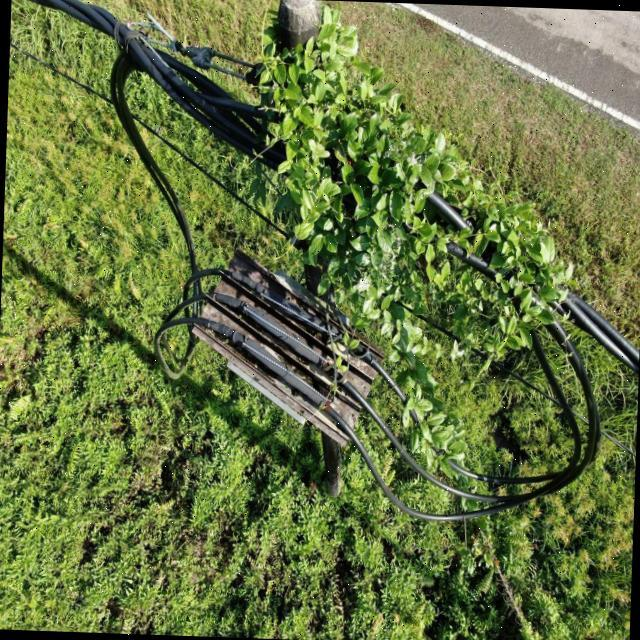critical vegetation: (209, 1, 592, 470)
